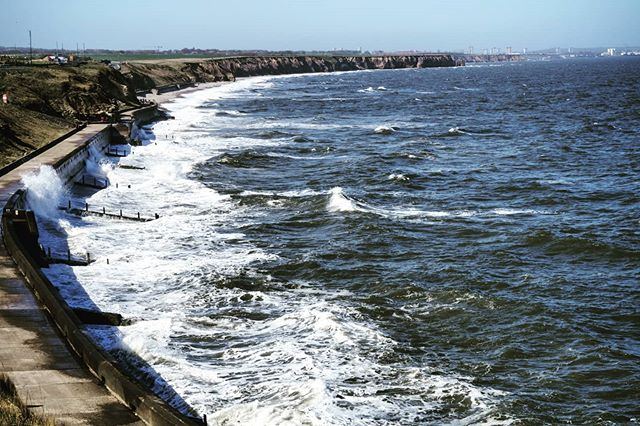sea: (114, 51, 640, 423)
sky: (4, 1, 640, 47)
